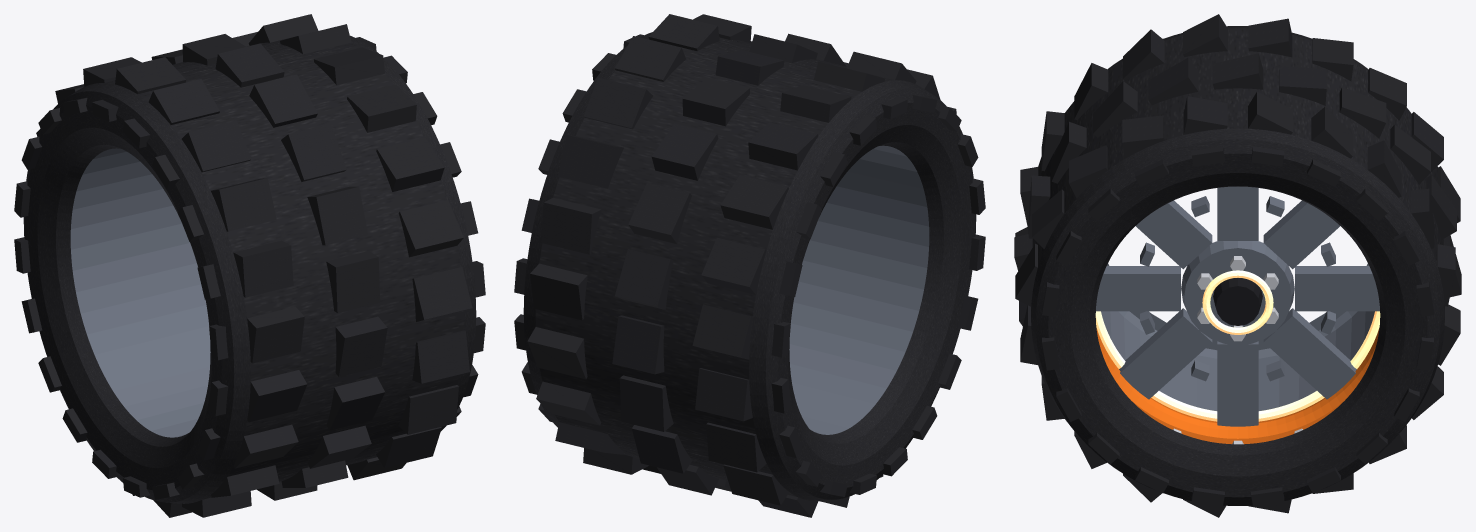
File: tyre-mudclaw.glb
3 renders of one model, left to right at view 1: azimuth 30°, elevation 25°; view 2: azimuth 150°, elevation 25°; view 3: azimuth 270°, elevation 25°, orthographic. The views are drawn at different scales.
Parts seen in each view (by area): view 1: Tyre_Rubber, Rim; view 2: Tyre_Rubber, Rim; view 3: Tyre_Rubber, Rim, Beadlock, Hub, LED_Ring, Chrome, LED_Seg_1, LED_Seg_8, LED_Seg_2, LED_Seg_7.
Boxes of the visible parts, x1=… form: Tyre_Rubber: x1=14, y1=14, x2=485, y2=517; Rim: x1=70, y1=148, x2=210, y2=437; Tyre_Rubber: x1=514, y1=14, x2=985, y2=517; Rim: x1=789, y1=145, x2=929, y2=434; Tyre_Rubber: x1=1014, y1=14, x2=1461, y2=517; Rim: x1=1096, y1=186, x2=1379, y2=426; Beadlock: x1=1096, y1=327, x2=1379, y2=444; Hub: x1=1213, y1=278, x2=1262, y2=325; LED_Ring: x1=1202, y1=270, x2=1273, y2=334; Chrome: x1=1173, y1=256, x2=1302, y2=444; LED_Seg_1: x1=1151, y1=391, x2=1217, y2=421; LED_Seg_8: x1=1258, y1=391, x2=1324, y2=421; LED_Seg_2: x1=1095, y1=311, x2=1125, y2=368; LED_Seg_7: x1=1350, y1=311, x2=1380, y2=368.
Bounding box in the file's own units: 0.188 × 0.283 × 0.283.
Materials: 14 (1 with a texture image).
